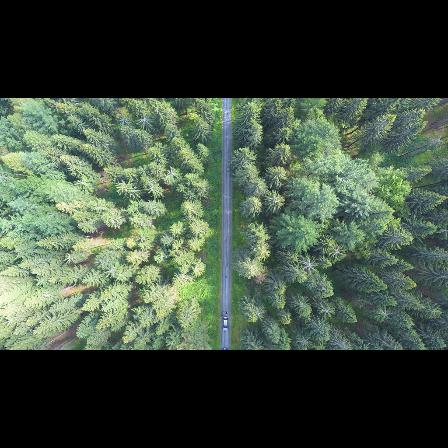Sick: (296, 254, 319, 277), (374, 303, 393, 326), (314, 302, 335, 318), (117, 110, 133, 130), (136, 112, 153, 130), (248, 306, 267, 322), (329, 243, 345, 260), (105, 264, 118, 278)
